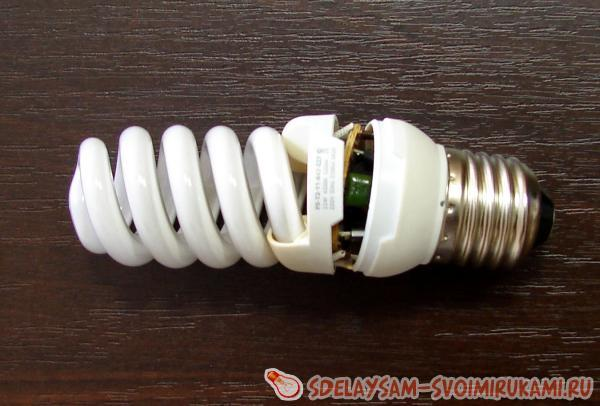Light_bulb: (57, 108, 560, 295)
